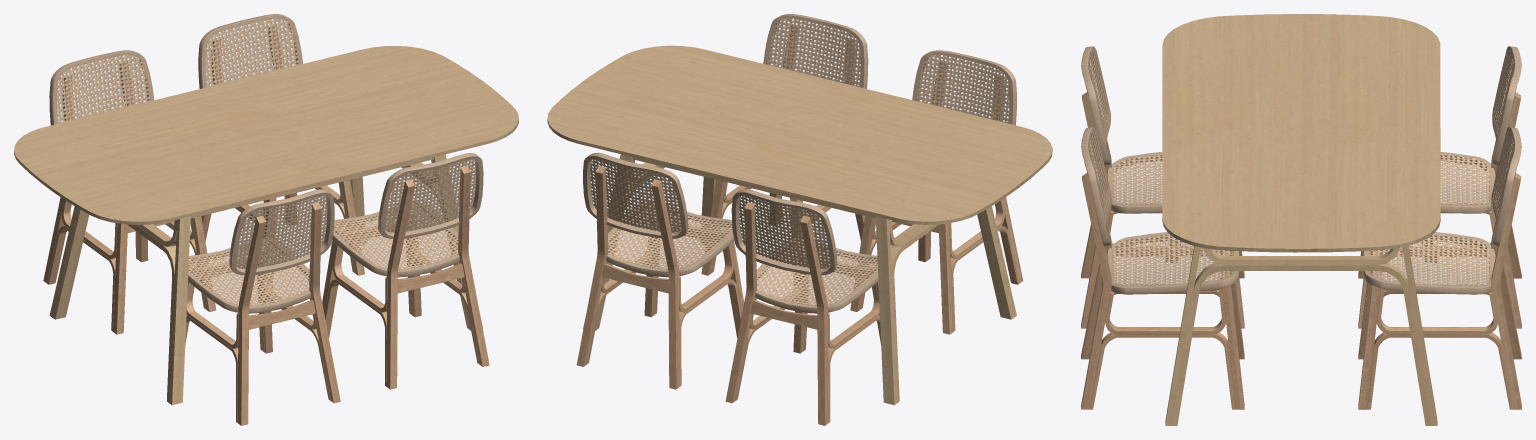
The model's file is table-15.glb.
3 renders of one model, left to right at view 1: azimuth 30°, elevation 25°; view 2: azimuth 150°, elevation 25°; view 3: azimuth 270°, elevation 25°, orthographic. The views are drawn at different scales.
Parts seen in each view (by area): view 1: Mesh_1, Mesh_0; view 2: Mesh_1, Mesh_0; view 3: Mesh_1, Mesh_0.
Boxes of the visible parts, bbox=[...] form: Mesh_1: bbox=[14, 14, 518, 425]; Mesh_0: bbox=[57, 18, 475, 305]; Mesh_1: bbox=[547, 14, 1052, 425]; Mesh_0: bbox=[590, 18, 1009, 305]; Mesh_1: bbox=[1081, 14, 1521, 425]; Mesh_0: bbox=[1088, 50, 1514, 285].
Bounding box in the file's own units: 1.8 × 0.85 × 1.43.
Materials: 2 (2 with a texture image).
